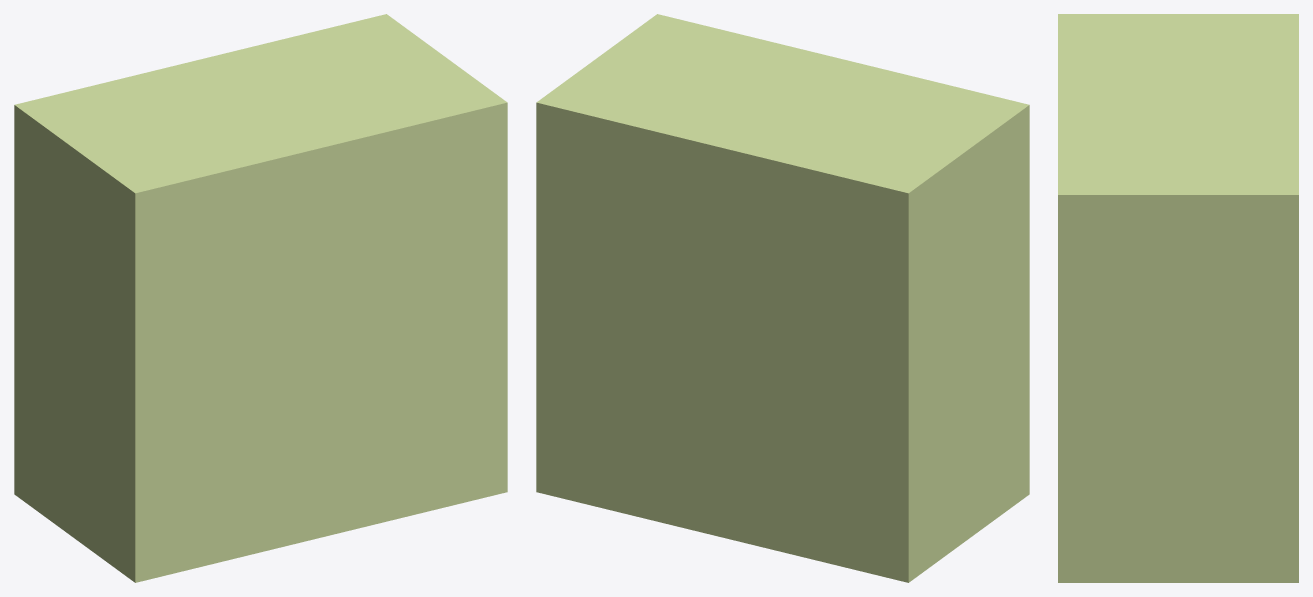
The model's file is sportsCarWheelA.DAE.
The picture shows the model from 3 angles, left to right: view 1: azimuth 30°, elevation 25°; view 2: azimuth 150°, elevation 25°; view 3: azimuth 270°, elevation 25°; orthographic projection.
Visible parts, largest first — view 1: bounds_PIVOT; view 2: bounds_PIVOT; view 3: bounds_PIVOT.
Boxes of the visible parts, left/top/right/bottom form: bounds_PIVOT: left=14, top=14, right=507, bottom=582; bounds_PIVOT: left=536, top=14, right=1029, bottom=582; bounds_PIVOT: left=1058, top=14, right=1298, bottom=582.
Size of the model in its own units: 1.03 by 0.5788 by 1.03.
